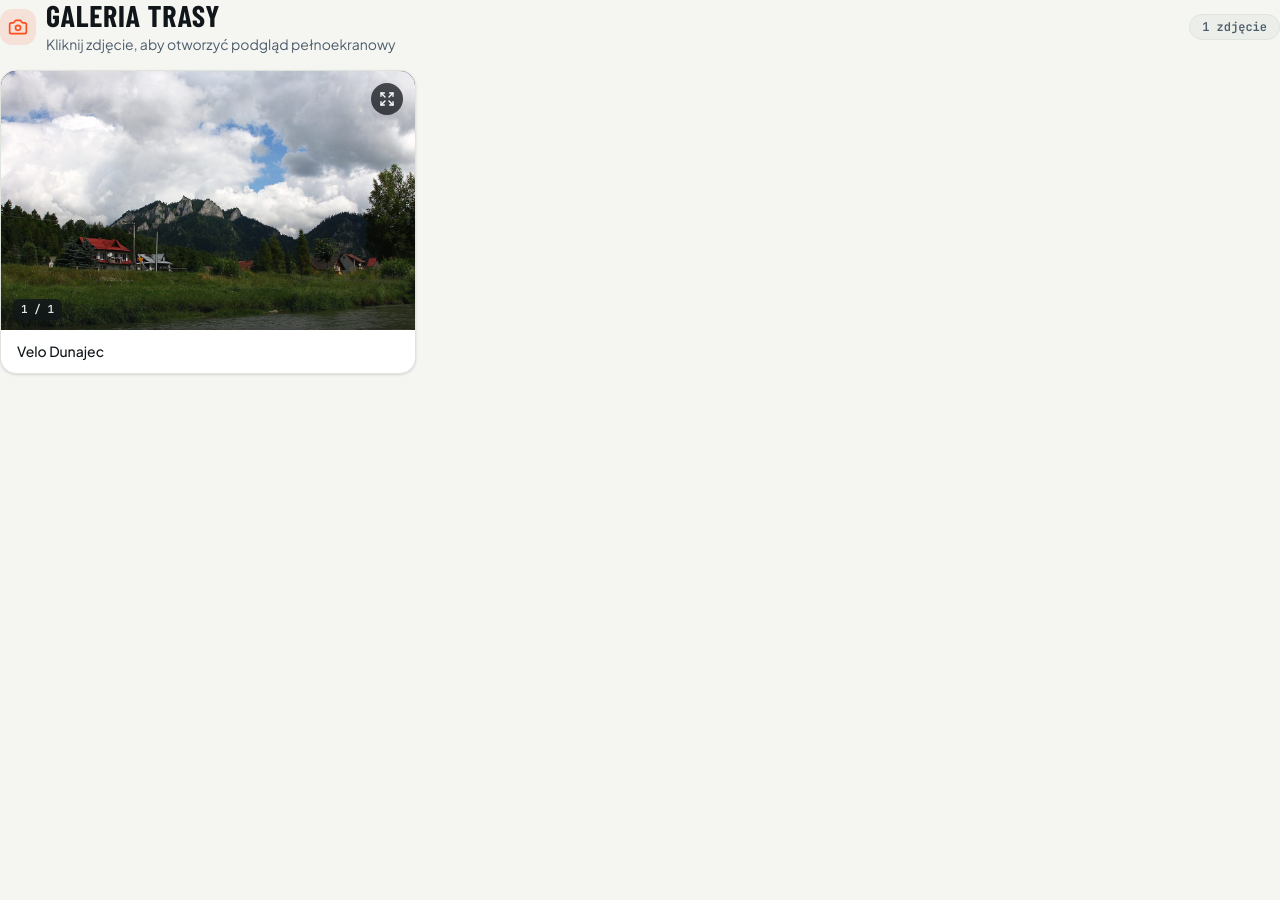
Test: TrailGallery & PhotoLightbox › falls back to coverImageUrl when images array is empty
The width and height of the screenshot is (1280, 900).
Check: the text "1 zdjęcie" is shown, box [1189,14,1279,40]
What coordinates should you click on to do the following:
click the button with aria-label "Otwórz zdjęcie 1 z 1"
I would click on:
 (208, 222)
Its box is [0,70,416,374].
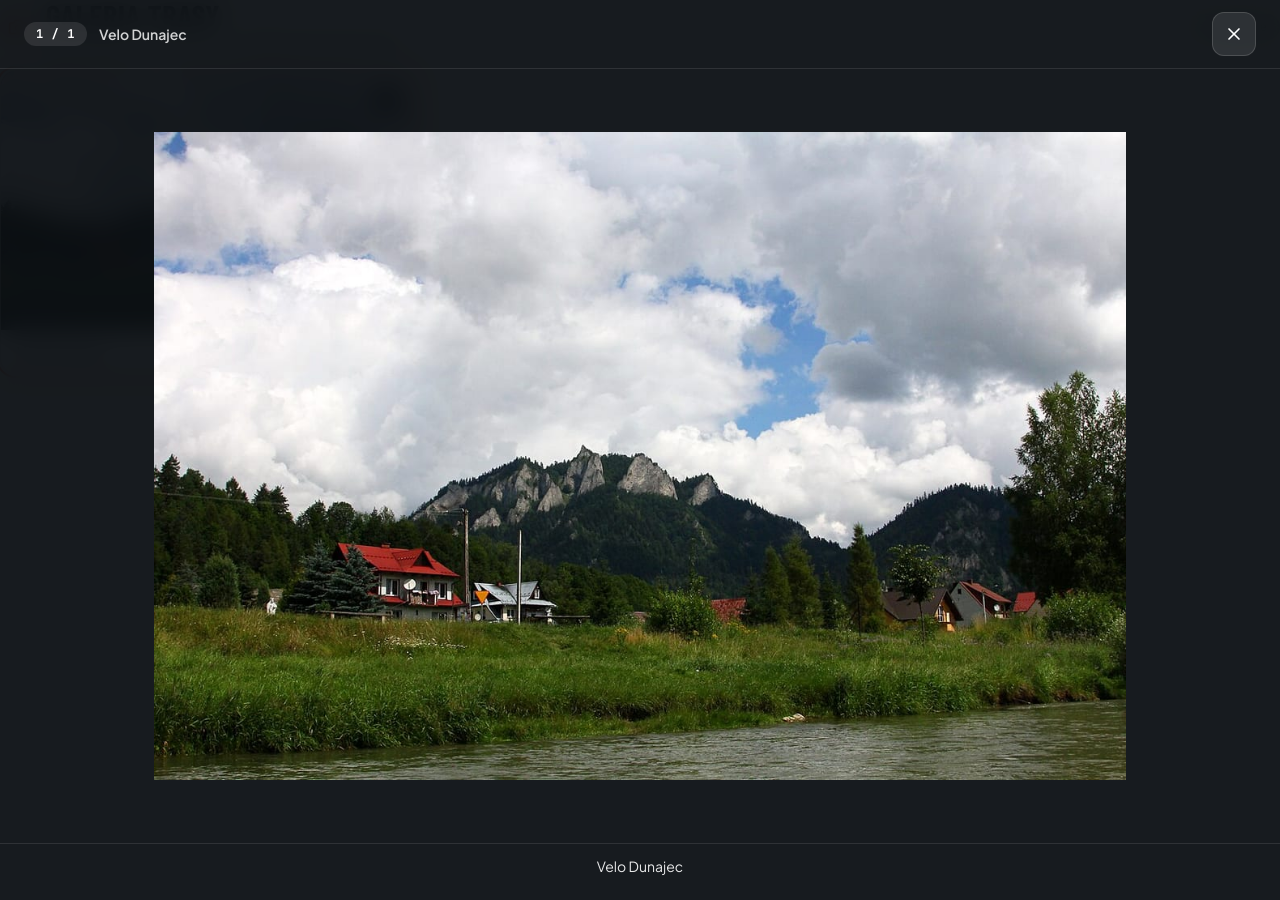
Check: the text with test id "lightbox-counter" reads "1 / 1", box [24,22,87,46]
